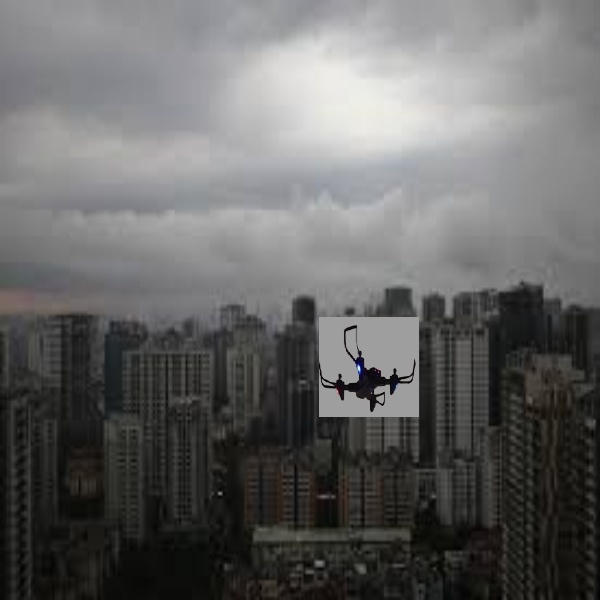drone: (316, 317, 423, 421)
